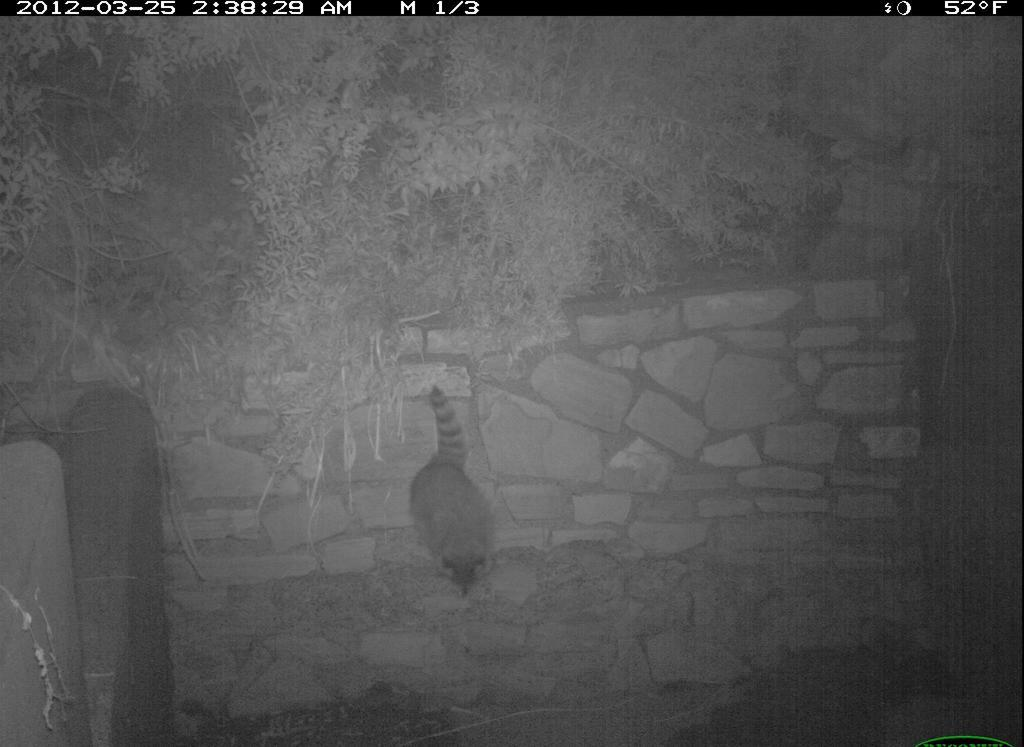raccoon: (411, 385, 510, 603)
